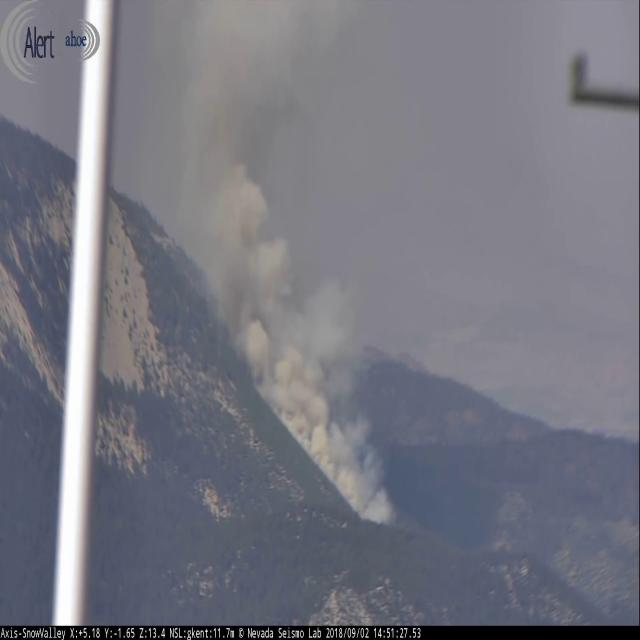smoke: (169, 0, 407, 536)
